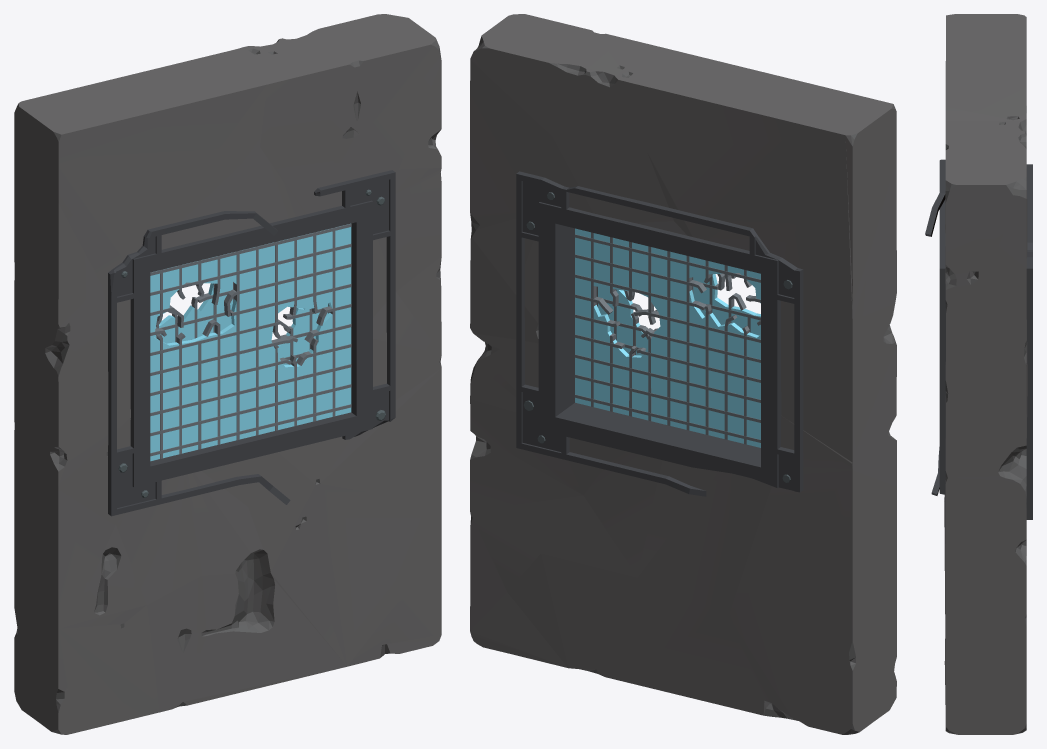
File: SM_Concrete_Window_Broken_Lvl_1.glb
The picture shows the model from 3 angles, left to right: view 1: azimuth 30°, elevation 25°; view 2: azimuth 150°, elevation 25°; view 3: azimuth 270°, elevation 25°; orthographic projection. The views are drawn at different scales.
Parts seen in each view (by area): view 1: SM_Concrete_Window_Broken_Lvl_1; view 2: SM_Concrete_Window_Broken_Lvl_1; view 3: SM_Concrete_Window_Broken_Lvl_1.
Part boxes in pixels (left/top/right/bottom): SM_Concrete_Window_Broken_Lvl_1: left=14, top=14, right=441, bottom=734; SM_Concrete_Window_Broken_Lvl_1: left=470, top=14, right=896, bottom=734; SM_Concrete_Window_Broken_Lvl_1: left=925, top=14, right=1032, bottom=734.
Size of the model in its own units: 2 by 3 by 0.5324.
Materials: 2 (1 with a texture image).
